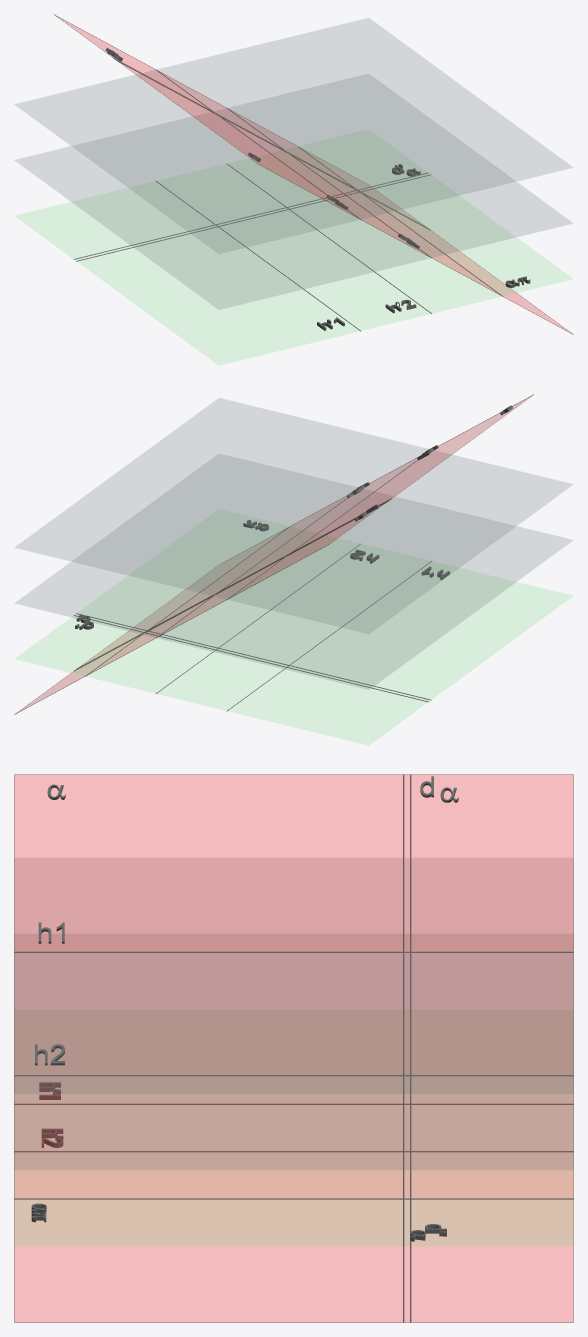
Rendered from reta_decliveN.glb.
The picture shows the model from 3 angles, top to bottom: view 1: azimuth 30°, elevation 25°; view 2: azimuth 150°, elevation 25°; view 3: azimuth 270°, elevation 25°; orthographic projection. The views are drawn at different scales.
Parts seen in each view (by area): view 1: object 25, root, Pipe (×3); view 2: object 25, root, Pipe (×3); view 3: root, object 25, Pipe (×5).
Part boxes in pixels (x1,y1,x2,y2): object 25: (15,18,572,365); root: (58,17,568,331); Pipe (×3): (73,59,430,261); object 25: (15,398,572,745); root: (19,397,529,711); Pipe (×3): (73,500,431,702); root: (14,775,573,1321); object 25: (14,858,573,1245); Pipe (×5): (14,774,573,1322).
Bounding box in the file's own units: 2.54 × 1.7 × 2.54.
